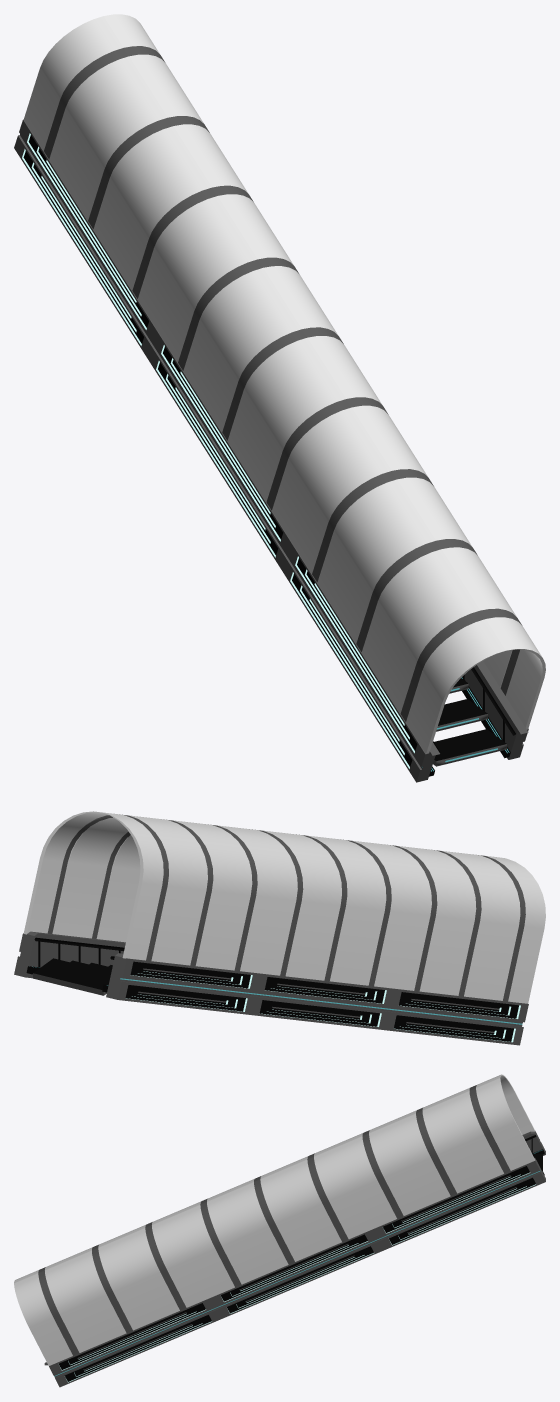
File: tunnel stairs.fbx
3 renders of one model, top to bottom at view 1: azimuth 30°, elevation 25°; view 2: azimuth 150°, elevation 25°; view 3: azimuth 270°, elevation 25°, orthographic. The views are drawn at different scales.
Visible parts, largest first — view 1: unit stairs.004; view 2: unit stairs.004; view 3: unit stairs.004.
Boxes of the visible parts, x1=… form: unit stairs.004: x1=14, y1=14, x2=545, y2=782; unit stairs.004: x1=14, y1=811, x2=545, y2=1045; unit stairs.004: x1=14, y1=1074, x2=545, y2=1387.
Bounding box in the file's own units: 202 × 908 × 1487.
